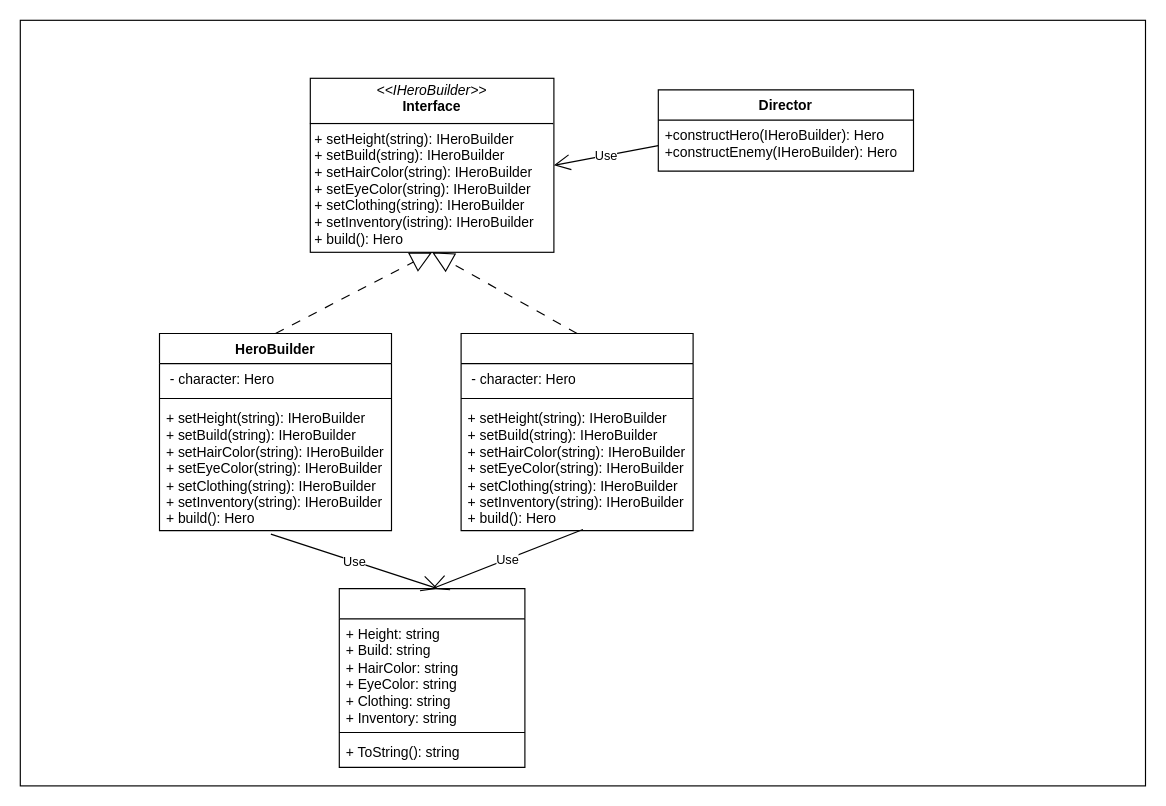
Image size: 1166x806. Some labels were removed from this diagram. The box of each missing label's shape, as (x1, y1, x2, y2) in pixels:
EnemyBuilder: (460, 332, 693, 531)
Hero: (338, 588, 525, 767)
